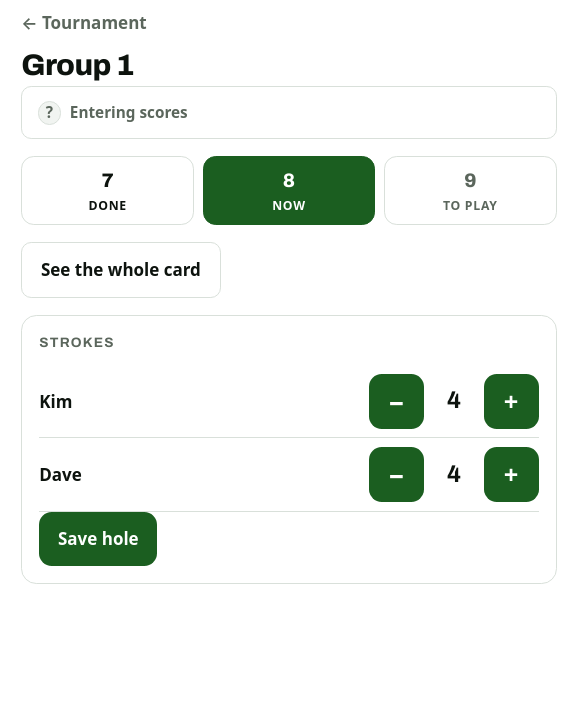
Test case: screens render › marks the tie-break as a question, not another card
Step 1. Click the button with aria-label "hole 7" → [108, 190], box [21,156,194,224]
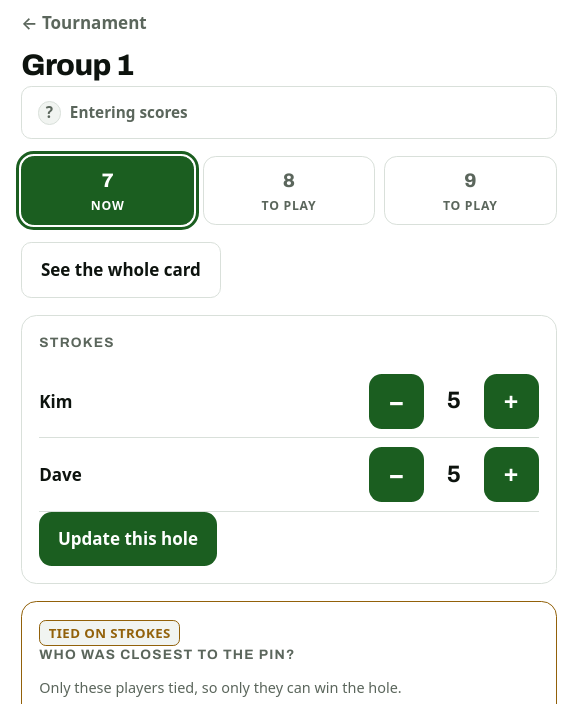
Now the text "Tied on strokes" is shown, box [39,620,180,646]
Now the heading "Who was closest to the pin?" is shown, box [39,647,296,662]
